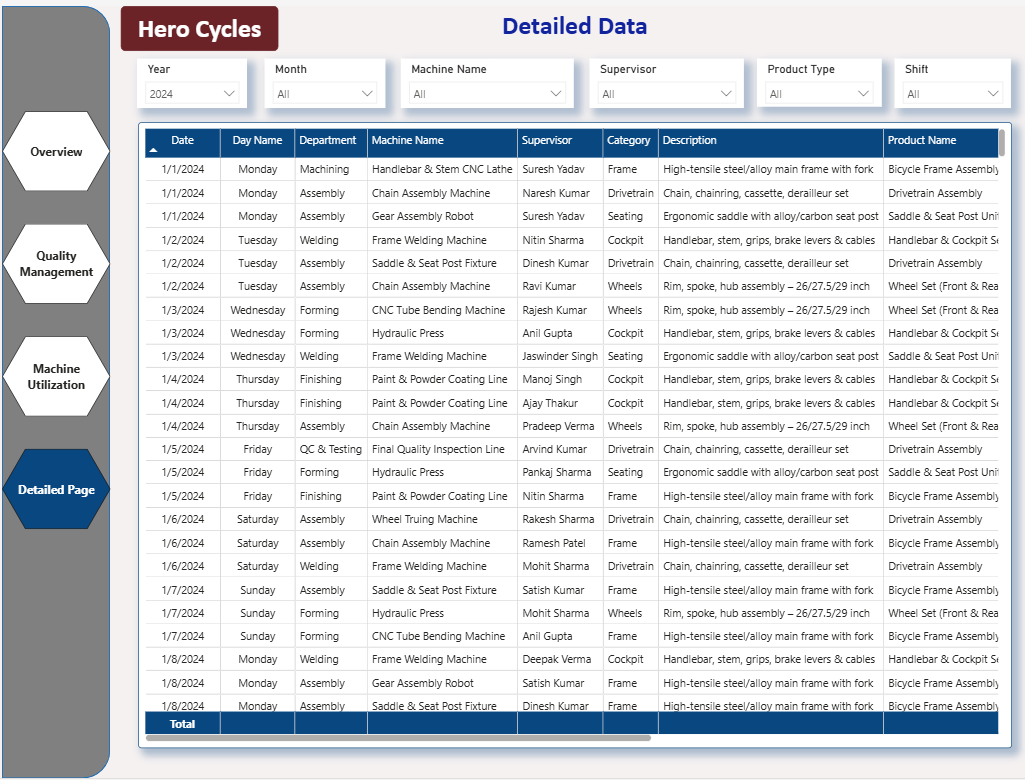

What the dashboard file says about the page in this screenshot:
{"tool":"powerbi","page":{"name":"Detailed Page","canvas":[1280,960],"ordinal":3},"visuals":[{"type":"shape","box":[0,0,134.3,960.3],"z":0},{"type":"pageNavigator","box":[0,130,135,523.3],"z":1000},{"type":"textbox","box":[144,0,1135.7,50],"z":2000},{"type":"tableEx","fields":{"Values":["Calender.Date","Manufacturing Data.Day Name","Machines.Department","Machines.Machine Name","Operator.Name","Products.Category","Products.Description","Products.Product Name","Manufacturing Data.Shift","Measures_All.Total_Production","Measures_All.Total Defects","Measures_All.Defect %"]},"box":[168.9,144.6,1086.5,778.4],"z":3000},{"type":"textbox","box":[148.4,0,195.7,56],"z":4000},{"type":"slicer","fields":{"Values":["Calender.Year"]},"box":[167.9,65.7,137,62],"z":5000},{"type":"slicer","fields":{"Values":["Calender.Month"]},"box":[326.1,65.7,150,62],"z":6000},{"type":"slicer","fields":{"Values":["Machines.Machine Name"]},"box":[495.7,65.7,215.2,62],"z":7000},{"type":"slicer","fields":{"Values":["Operator.Name"]},"box":[730.4,65.7,192.4,62],"z":8000},{"type":"slicer","fields":{"Values":["Products.Category"]},"box":[939.1,65.7,154.9,60.3],"z":9000},{"type":"slicer","fields":{"Values":["Manufacturing Data.Shift"]},"box":[1110.3,65.7,145.1,62],"z":10000}]}

Visuals, with their boxes in screenshot pixels (x1, y1, x2, y2), scaled from the page's 1280x960 canvas onto the 1025x780 screenshot:
shape: select_region(0, 0, 108, 779)
pageNavigator: select_region(0, 106, 108, 531)
textbox: select_region(115, 0, 1024, 41)
tableEx - Calender.Date x Manufacturing Data.Day Name: select_region(135, 117, 1005, 750)
textbox: select_region(119, 0, 276, 46)
slicer - Calender.Year: select_region(134, 53, 244, 104)
slicer - Calender.Month: select_region(261, 53, 381, 104)
slicer - Machines.Machine Name: select_region(397, 53, 569, 104)
slicer - Operator.Name: select_region(585, 53, 739, 104)
slicer - Products.Category: select_region(752, 53, 876, 102)
slicer - Manufacturing Data.Shift: select_region(889, 53, 1005, 104)
